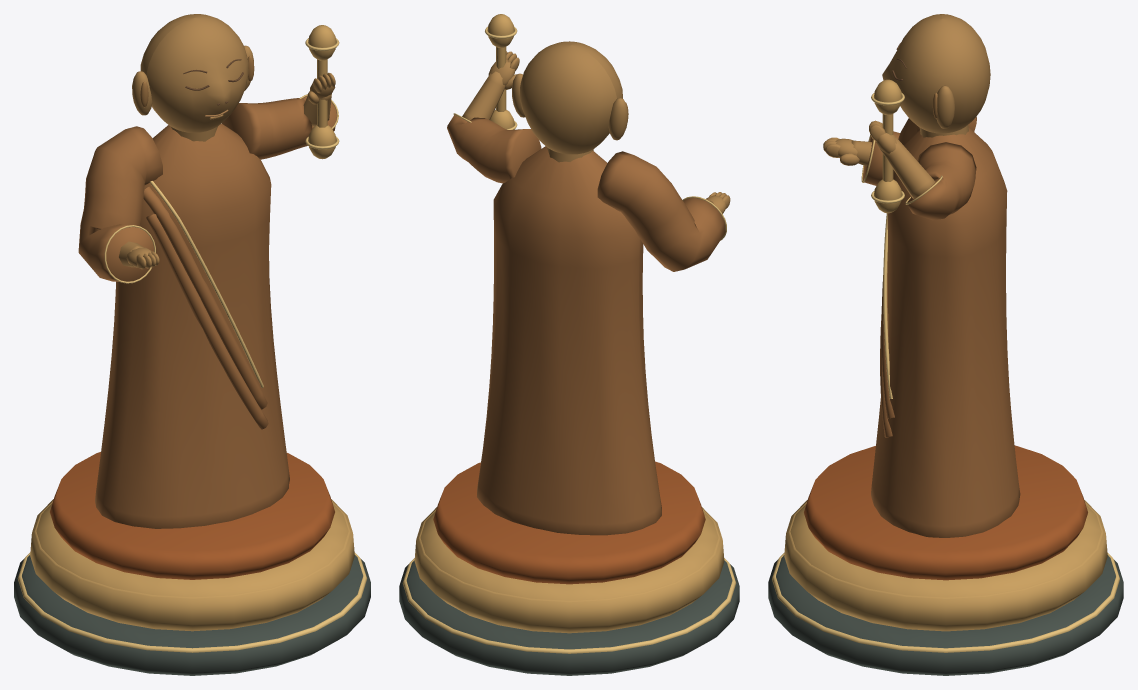
Rendered from arhat_09_lod1.glb.
The picture shows the model from 3 angles, left to right: view 1: azimuth 30°, elevation 25°; view 2: azimuth 150°, elevation 25°; view 3: azimuth 270°, elevation 25°; orthographic projection. The views are drawn at different scales.
Parts seen in each view (by area): view 1: arhat_09_ArhatDrapery, arhat_09_AntiqueGold, arhat_09_SaffronDrapery, arhat_09_CarvedPlinth, arhat_09_WarmBronze, arhat_09_RaisedGoldBorders; view 2: arhat_09_ArhatDrapery, arhat_09_AntiqueGold, arhat_09_SaffronDrapery, arhat_09_CarvedPlinth, arhat_09_WarmBronze, arhat_09_RaisedGoldBorders; view 3: arhat_09_ArhatDrapery, arhat_09_AntiqueGold, arhat_09_SaffronDrapery, arhat_09_CarvedPlinth, arhat_09_WarmBronze, arhat_09_RaisedGoldBorders.
Part boxes in pixels (x1,y1,x2,y2): arhat_09_ArhatDrapery: (78, 96, 336, 528); arhat_09_AntiqueGold: (30, 25, 354, 631); arhat_09_SaffronDrapery: (50, 452, 334, 579); arhat_09_CarvedPlinth: (14, 555, 370, 675); arhat_09_WarmBronze: (119, 14, 335, 269); arhat_09_RaisedGoldBorders: (17, 38, 367, 652); arhat_09_ArhatDrapery: (447, 115, 725, 535); arhat_09_AntiqueGold: (414, 14, 724, 633); arhat_09_SaffronDrapery: (433, 461, 705, 584); arhat_09_CarvedPlinth: (399, 560, 739, 675); arhat_09_WarmBronze: (462, 41, 730, 213); arhat_09_RaisedGoldBorders: (402, 26, 736, 653); arhat_09_ArhatDrapery: (862, 116, 1020, 537); arhat_09_AntiqueGold: (784, 79, 1107, 631); arhat_09_SaffronDrapery: (804, 445, 1087, 580); arhat_09_CarvedPlinth: (768, 555, 1123, 675); arhat_09_WarmBronze: (823, 14, 990, 198); arhat_09_RaisedGoldBorders: (772, 92, 1119, 652).
Size of the model in its own units: 0.92 by 1.67 by 0.92.
